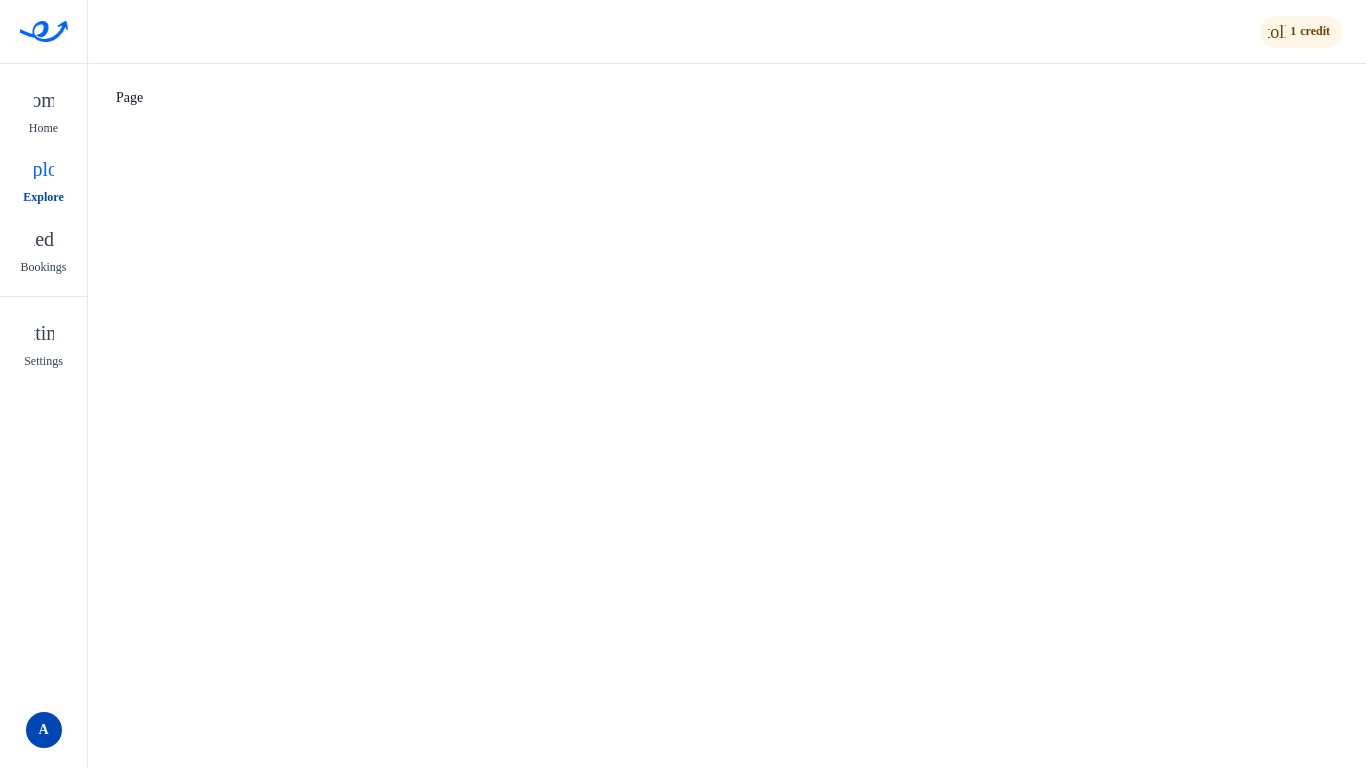
Test: AppShell: a mentee’s credits › account menu before the monthly grant: "For your first session", never "Resets null"
Click the button named "Account menu". click: (44, 730)
box: [26, 712, 62, 748]
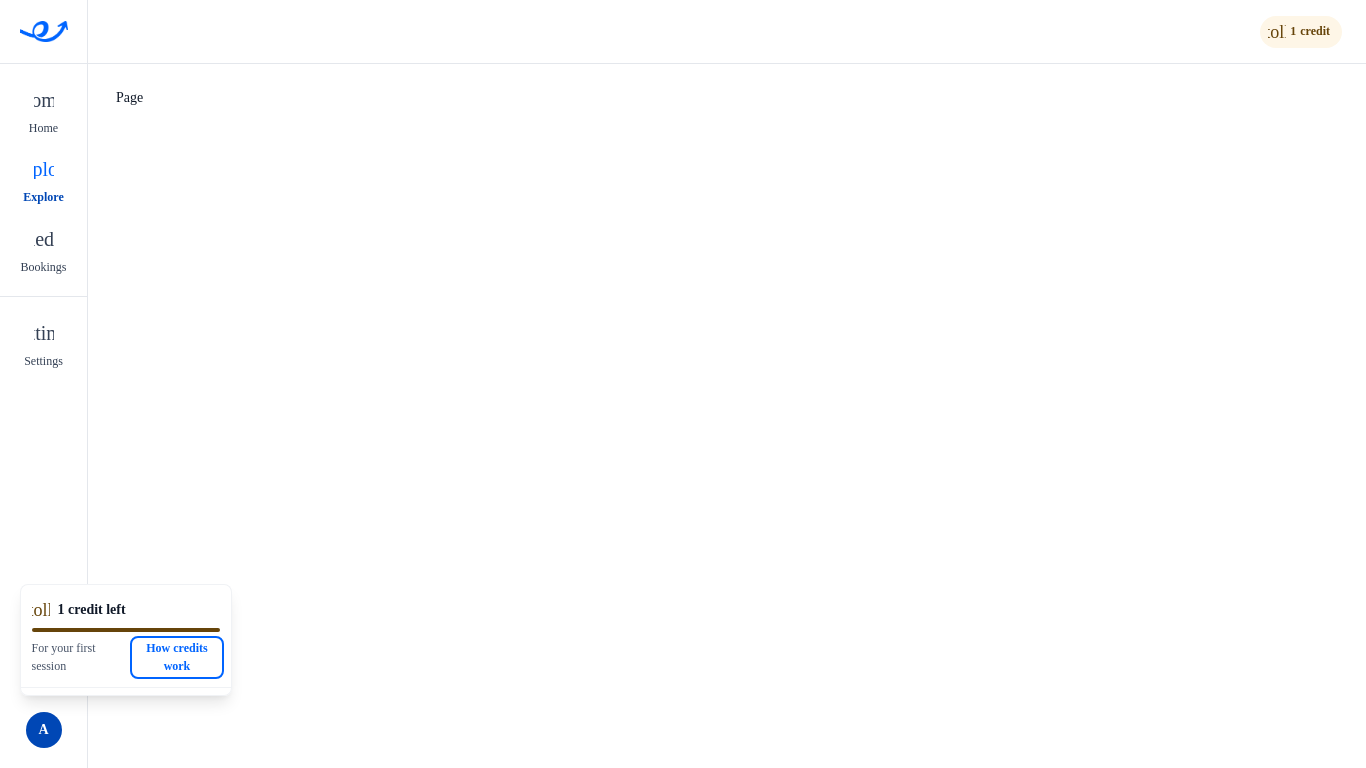
Check: the element "credits" shows "For your first session", box [32, 641, 96, 673]
